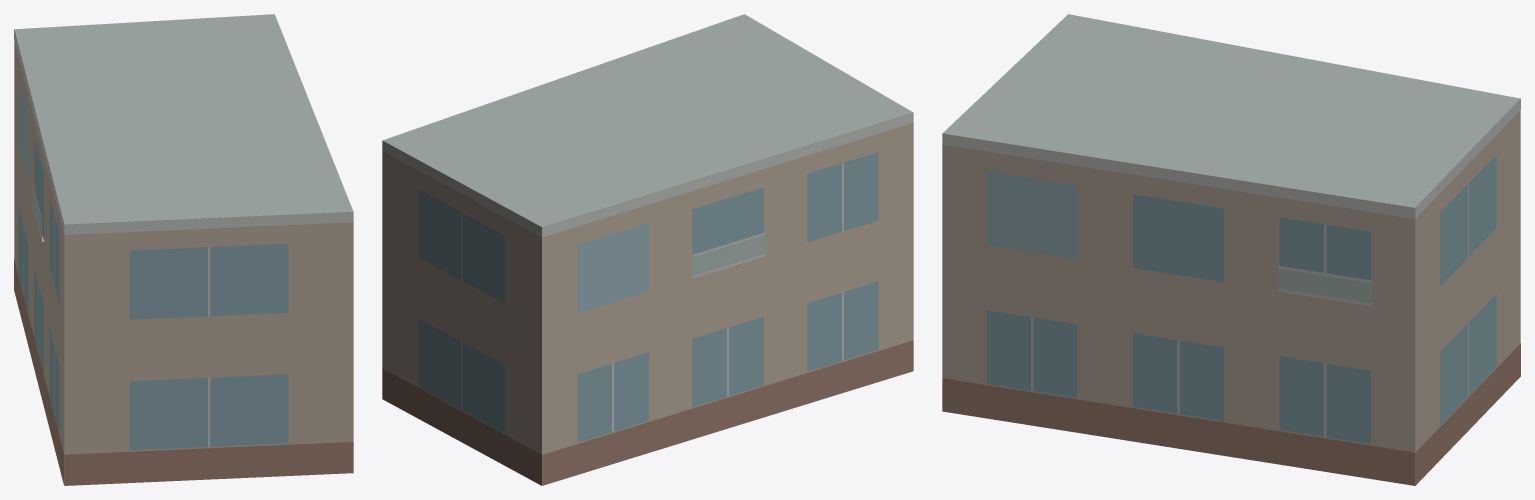
Rendered from survey-upis-32818284.glb.
3 views of the same model, side by side, from view 1: azimuth 30°, elevation 25°; view 2: azimuth 150°, elevation 25°; view 3: azimuth 270°, elevation 25° (orthographic). The views are drawn at different scales.
Parts seen in each view (by area): view 1: survey-upis-32818284.tmp; view 2: survey-upis-32818284.tmp; view 3: survey-upis-32818284.tmp.
Boxes of the visible parts, box(x1,y1,x2,y2) form: survey-upis-32818284.tmp: box(14, 14, 353, 485); survey-upis-32818284.tmp: box(382, 14, 913, 485); survey-upis-32818284.tmp: box(942, 14, 1520, 485).
Bounding box in the file's own units: 9.14 × 6.1 × 11.51.
